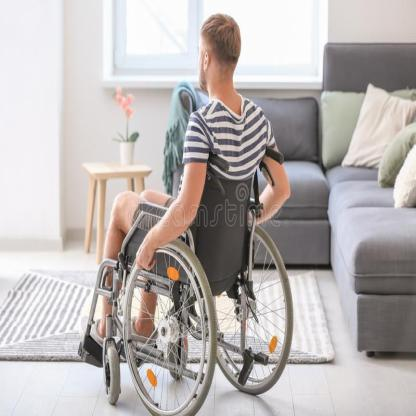wheelchair: (90, 12, 296, 415)
